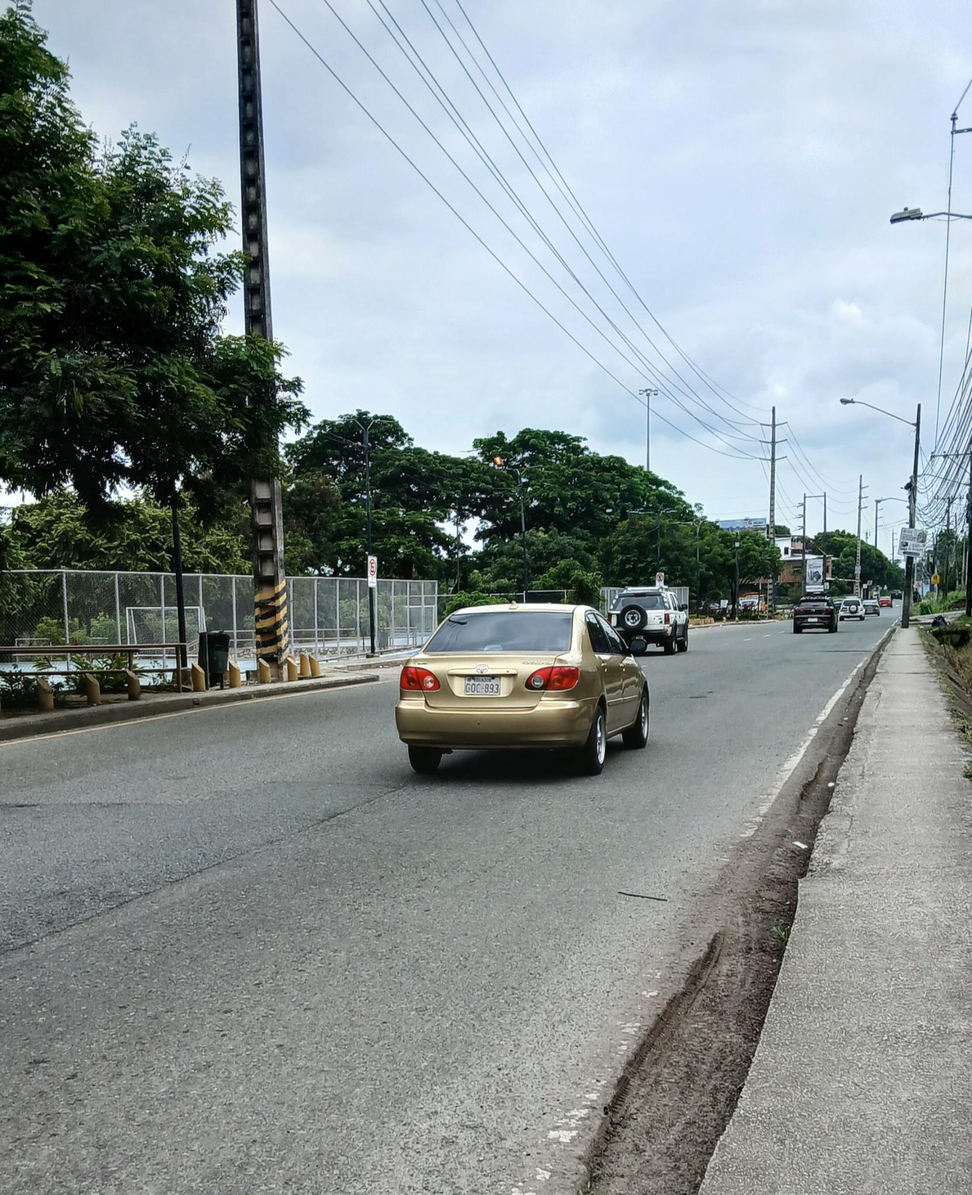license_plate: (463, 677, 502, 695), (806, 617, 820, 622)
